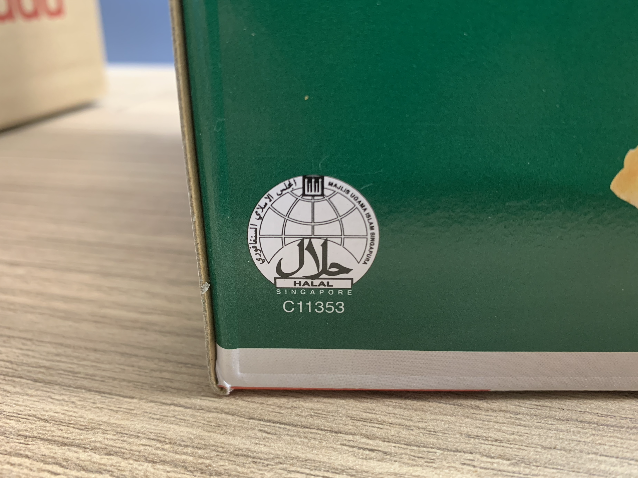halal: (265, 188, 361, 292)
